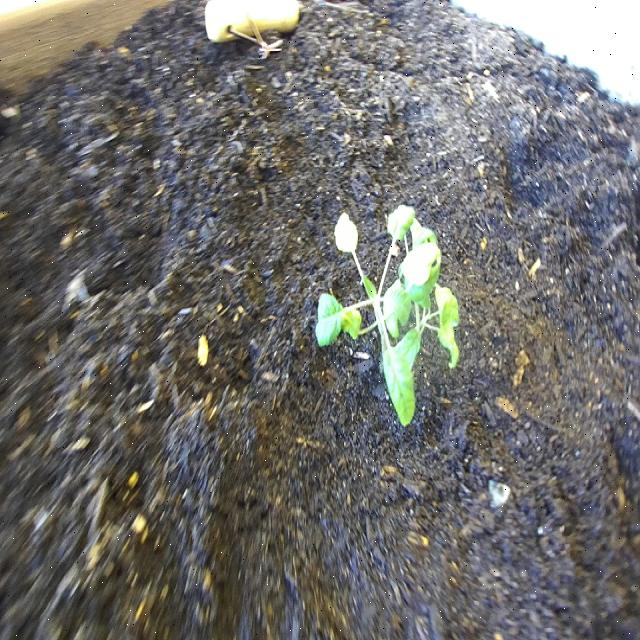Healthy: (314, 200, 464, 432)
